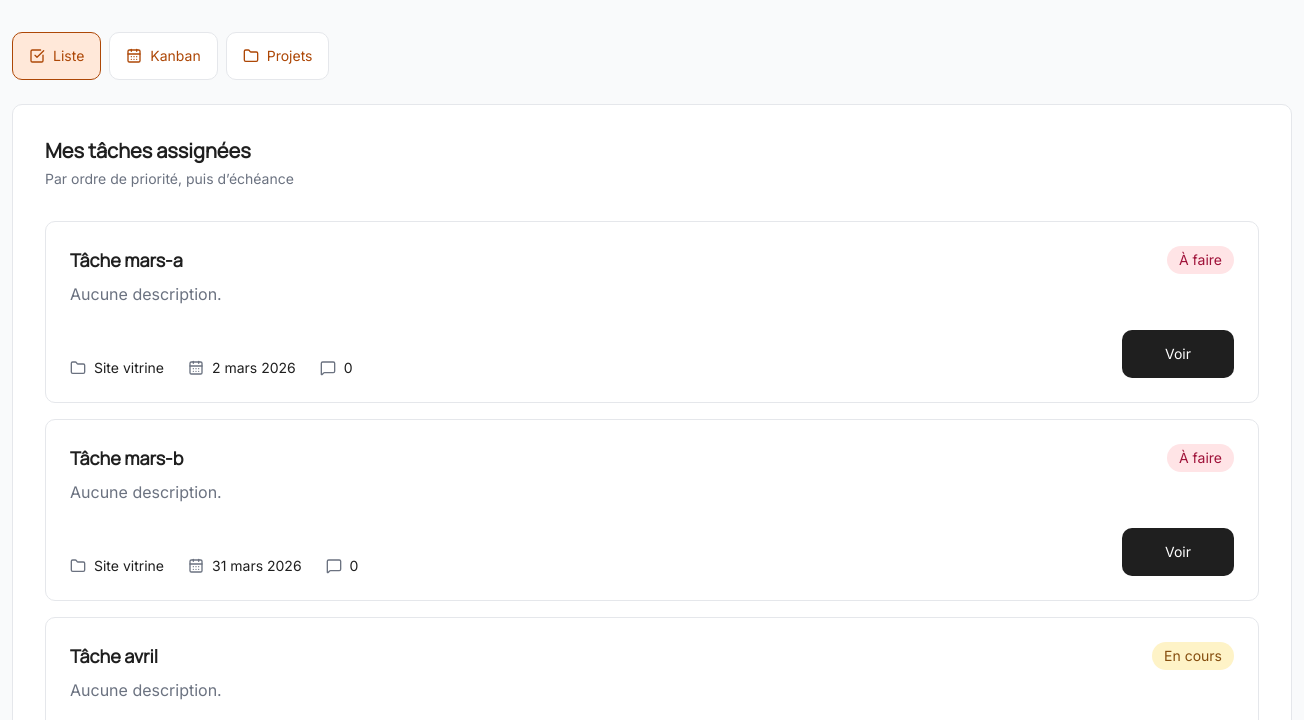
Test: dashboard month Kanban › shows the current month by status, moves between months and keeps the month after a tab change
This screenshot has width=1304, height=720.
Click the tab "Kanban" at (164, 56), box [109, 32, 218, 80]
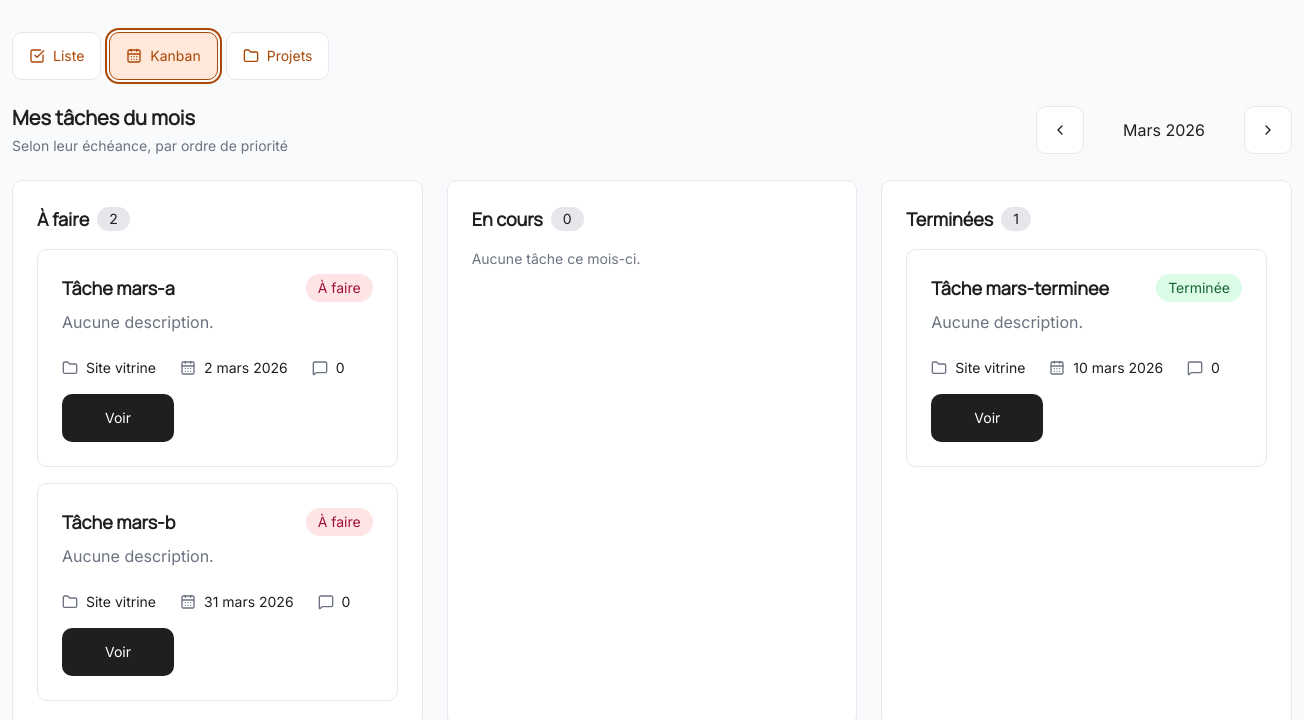
expect the text "mars 2026" is shown: met, box [1123, 120, 1205, 140]
expect the headings read "Tâche mars-a", "Tâche mars-b", in this order: met, box [62, 274, 175, 302]; [62, 508, 175, 536]
expect the text "Aucune tâche ce mois-ci." is shown: met, box [472, 250, 641, 267]
Click the button named "Mois suivant" at (1268, 130), box [1244, 106, 1292, 154]
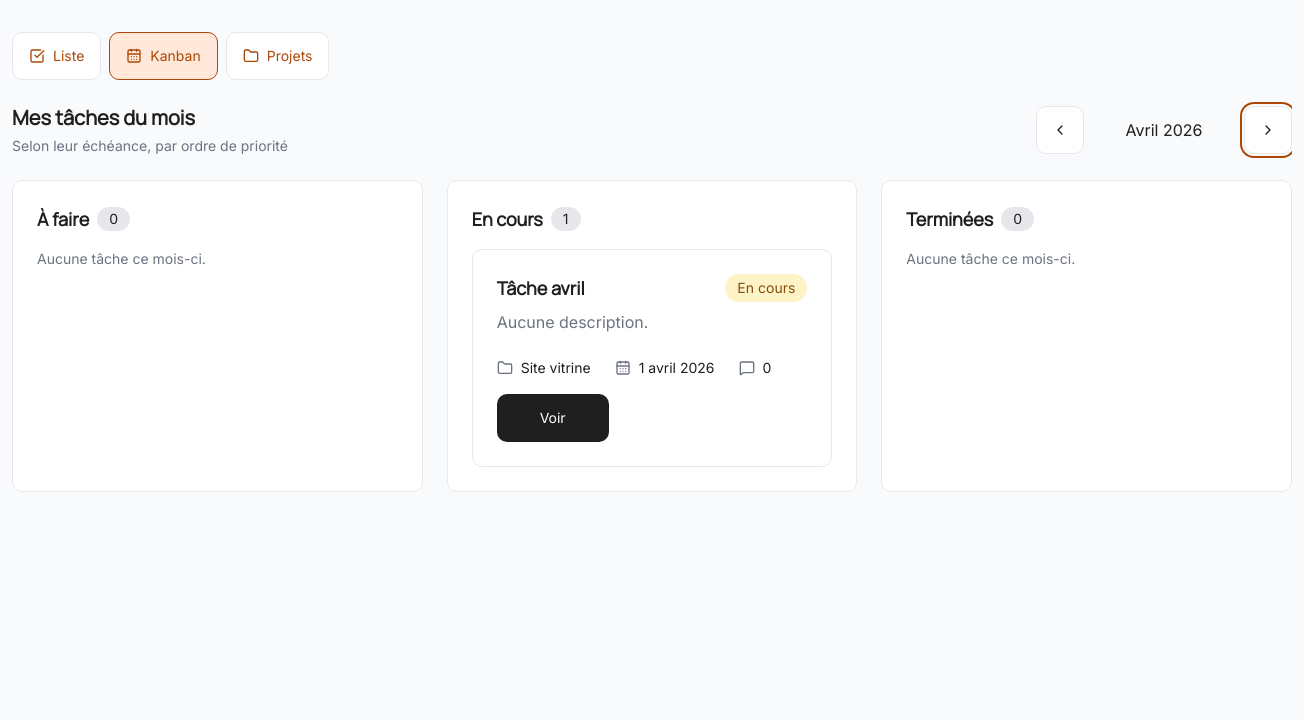
expect the element named "À faire 0 tâche" is shown: met, box [12, 180, 423, 492]
expect the text "avril 2026" is shown: met, box [1126, 120, 1202, 140]
expect the heading "Tâche avril" is shown: met, box [497, 274, 585, 302]
Click the tab "Liste" at (57, 56), box [12, 32, 101, 80]
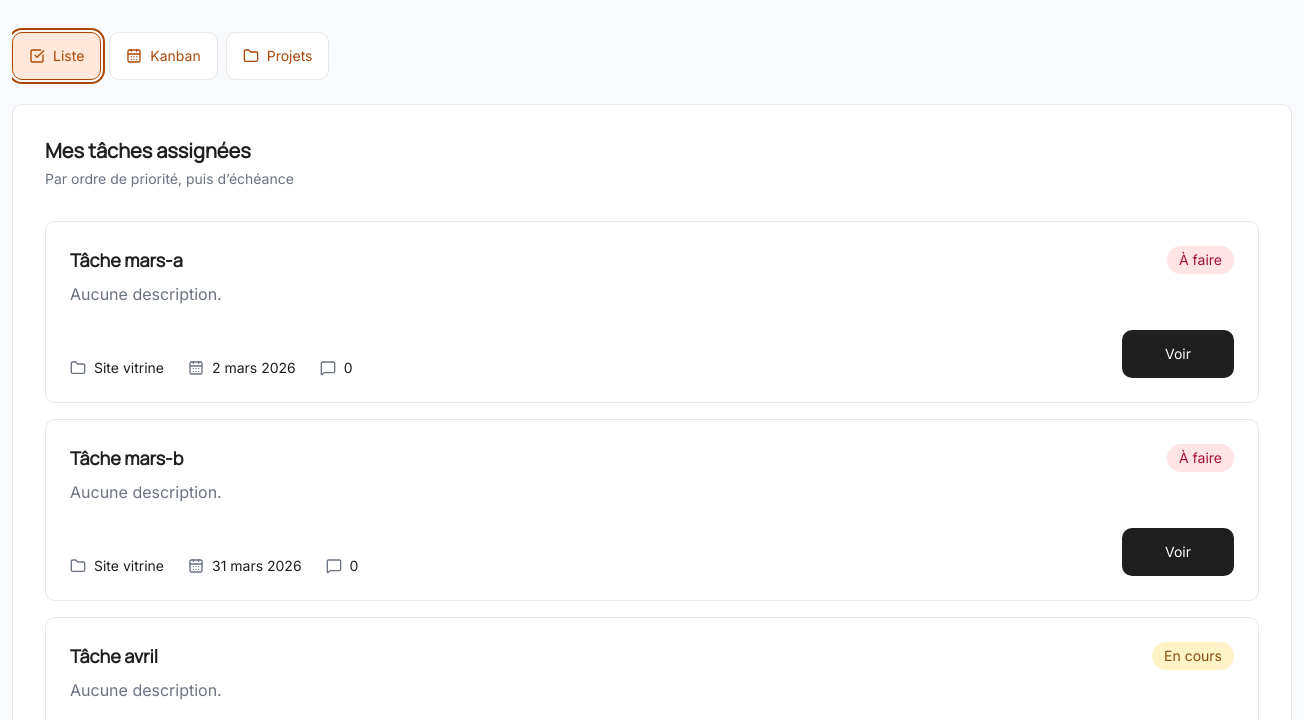
expect the heading "Mes tâches assignées" is shown: met, box [45, 137, 251, 164]
Click the tab "Kanban" at (164, 56), box [109, 32, 218, 80]
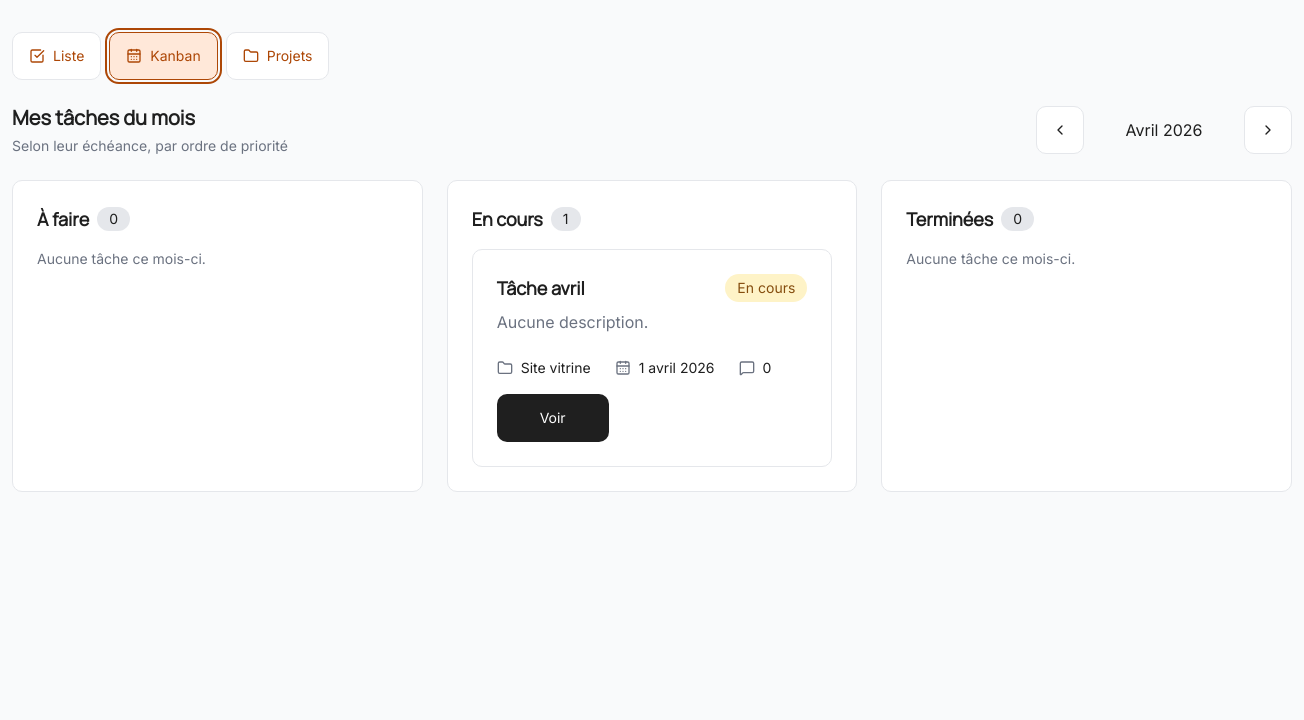
expect the text "avril 2026" is shown: met, box [1126, 120, 1202, 140]
